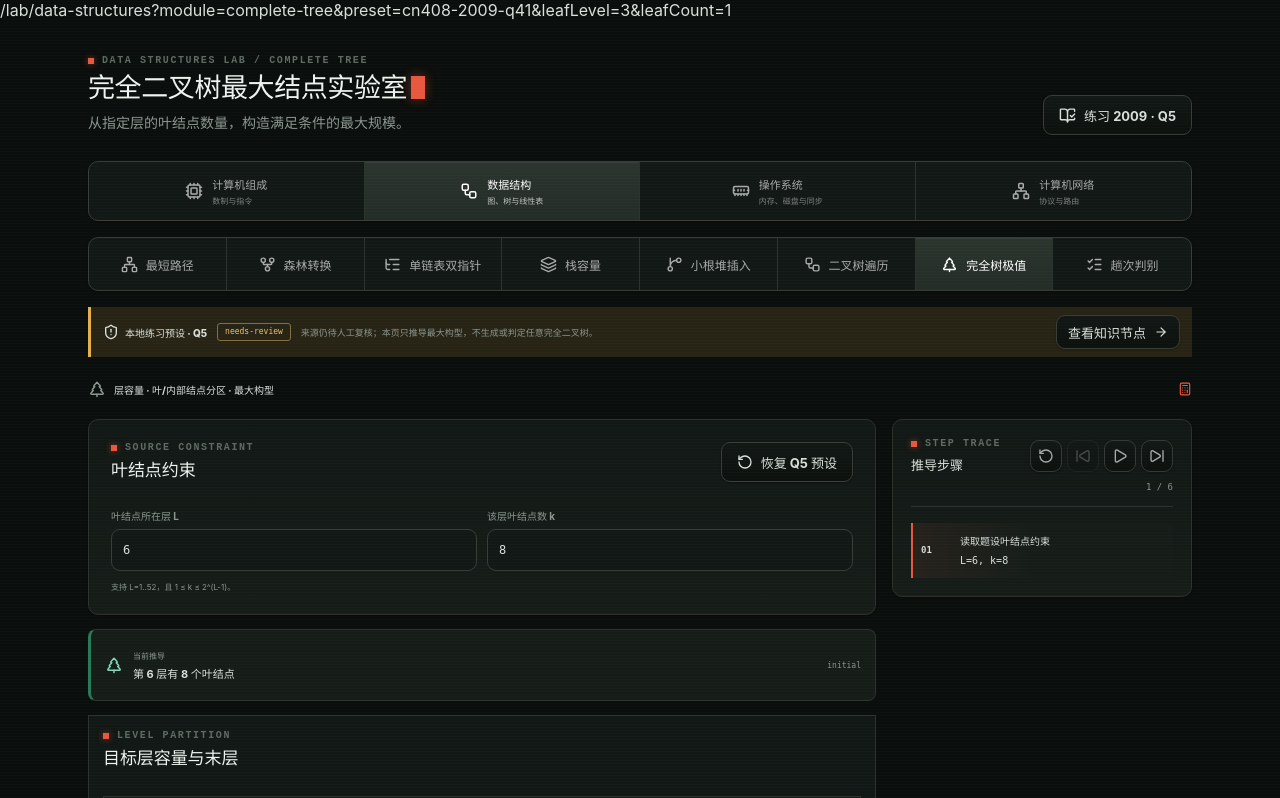
Test: CompleteBinaryTreeLabPage › lets the explicit complete-tree module ignore a conflicting foreign preset
Check: the number field labelled "叶结点所在层 L" holds "6", box [111, 530, 477, 572]
Check: the number field labelled "该层叶结点数 k" holds "8", box [487, 530, 853, 572]
Click the button named "下一步" at (1157, 456), box [1141, 440, 1173, 472]
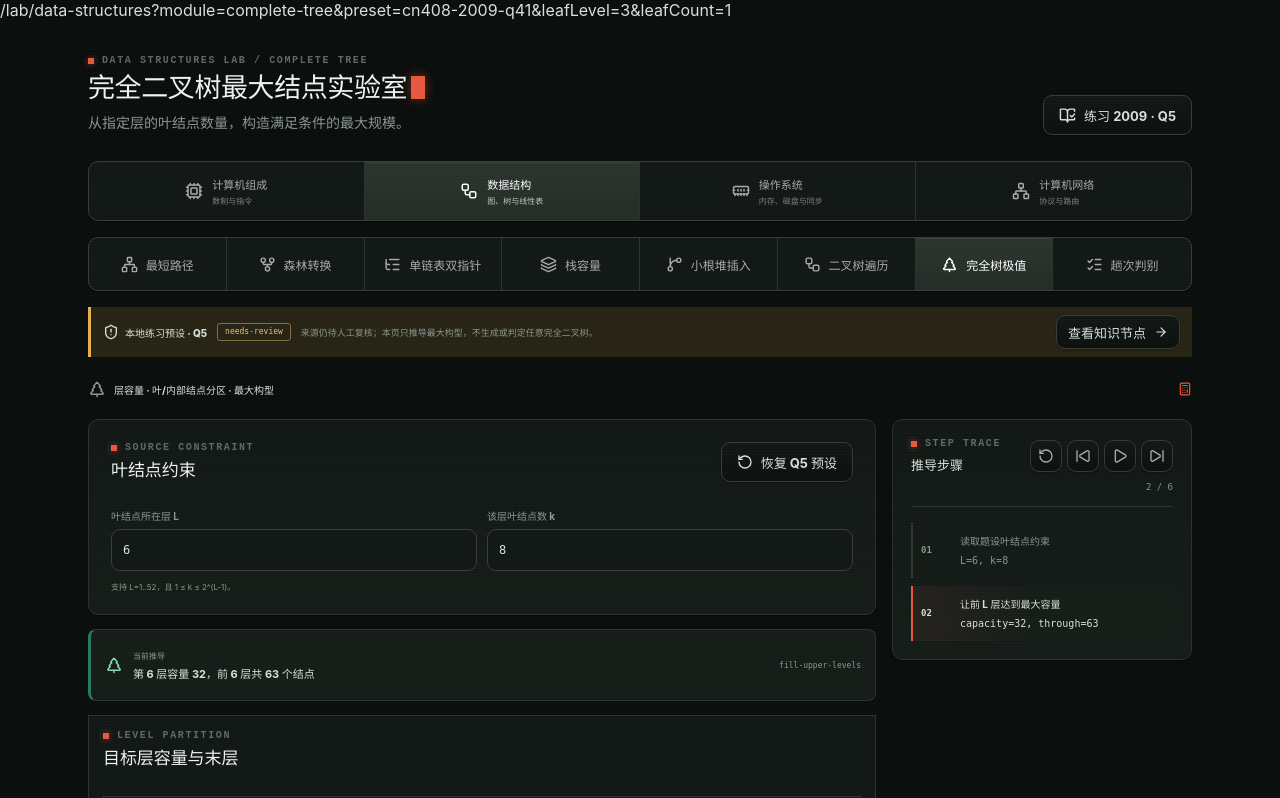
Click the button named "下一步" at (1157, 456), box [1141, 440, 1173, 472]
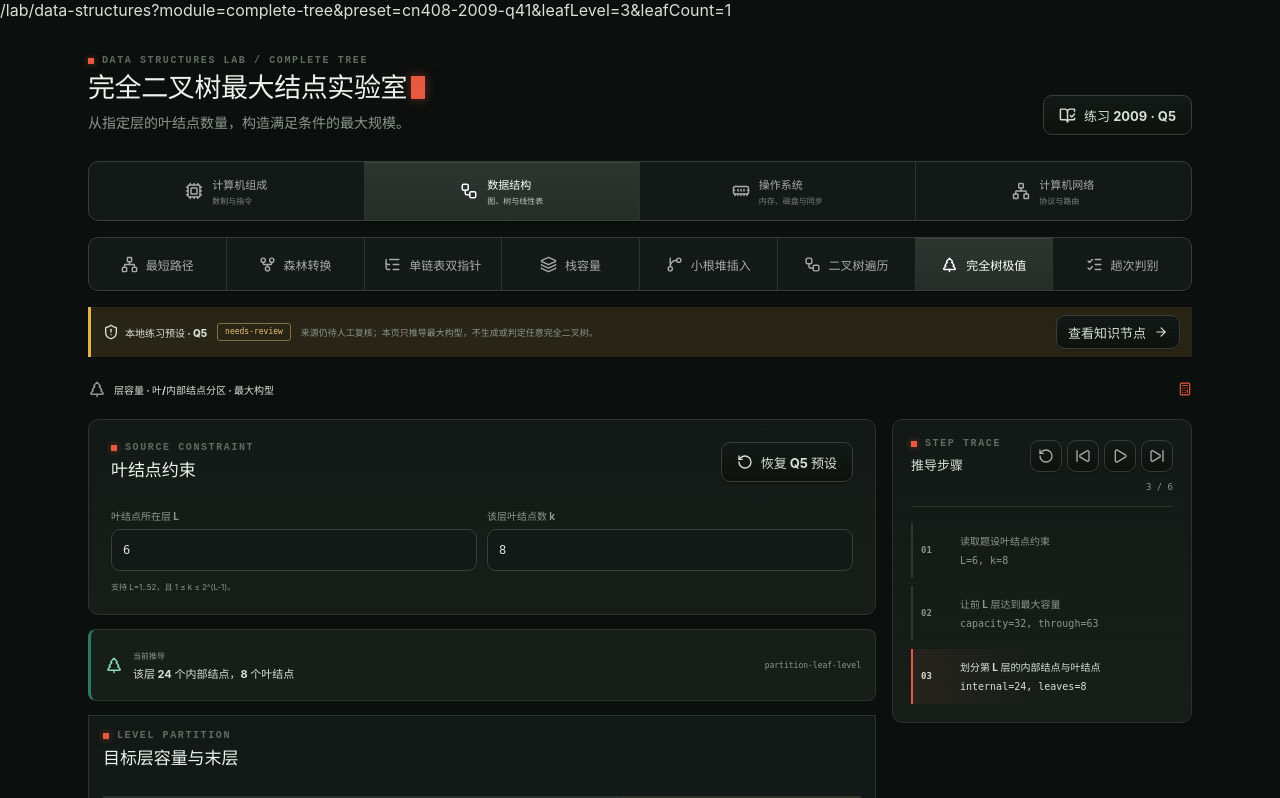
Click the button named "下一步" at (1157, 456), box [1141, 440, 1173, 472]
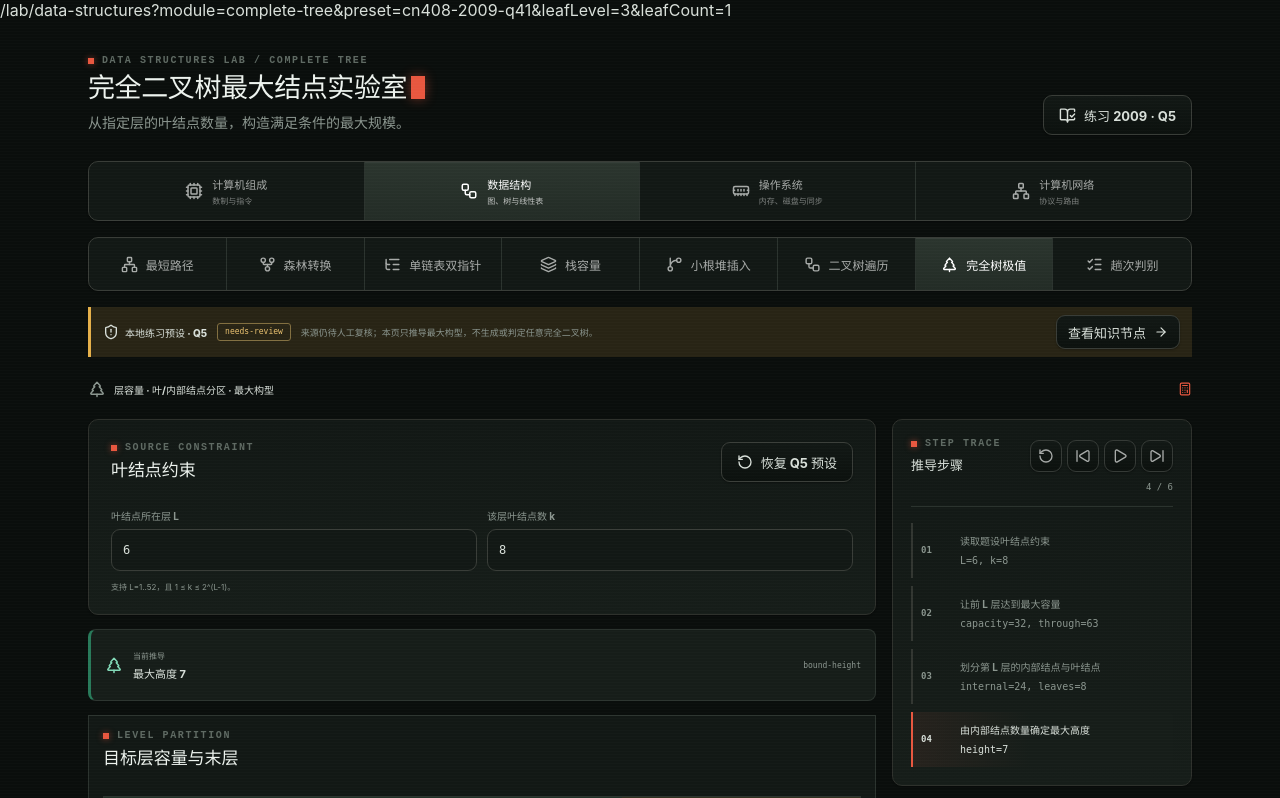
Click the button named "下一步" at (1157, 456), box [1141, 440, 1173, 472]
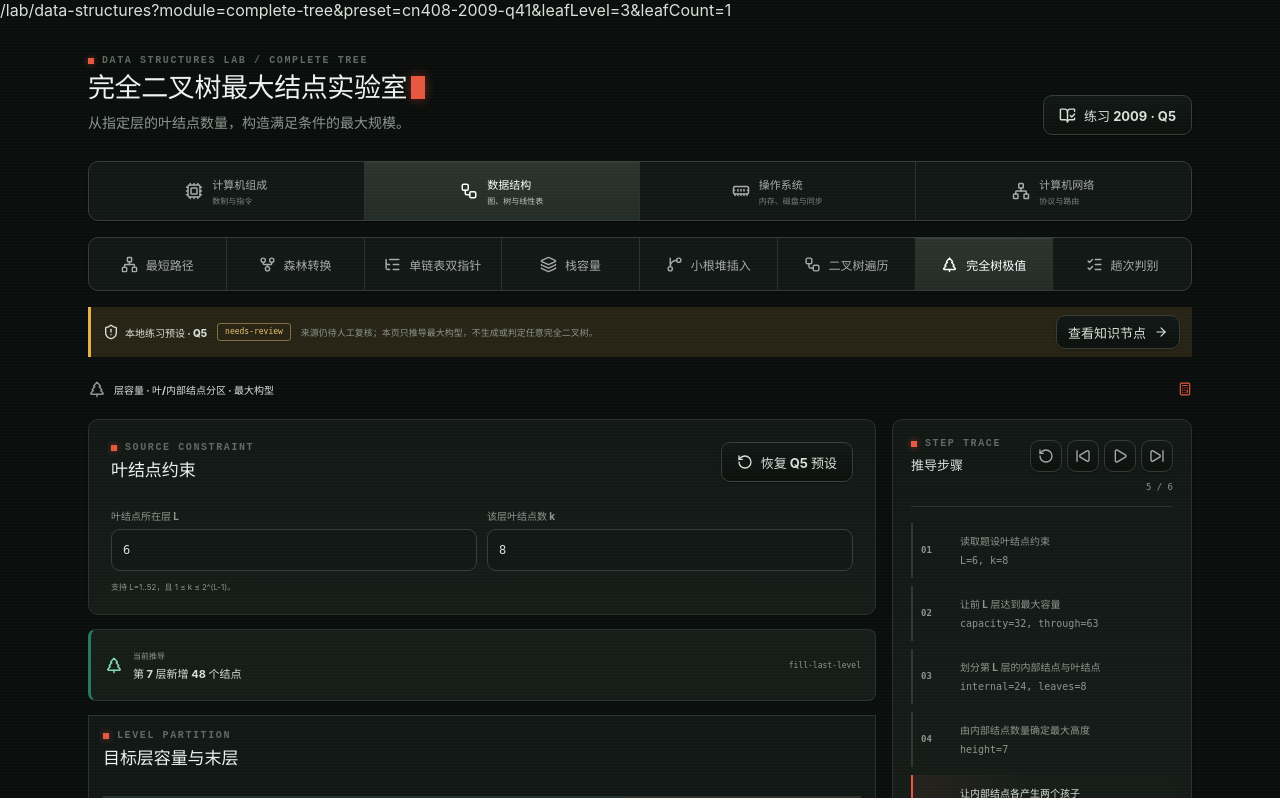
Click the button named "下一步" at (1157, 456), box [1141, 440, 1173, 472]
(page scrolled)
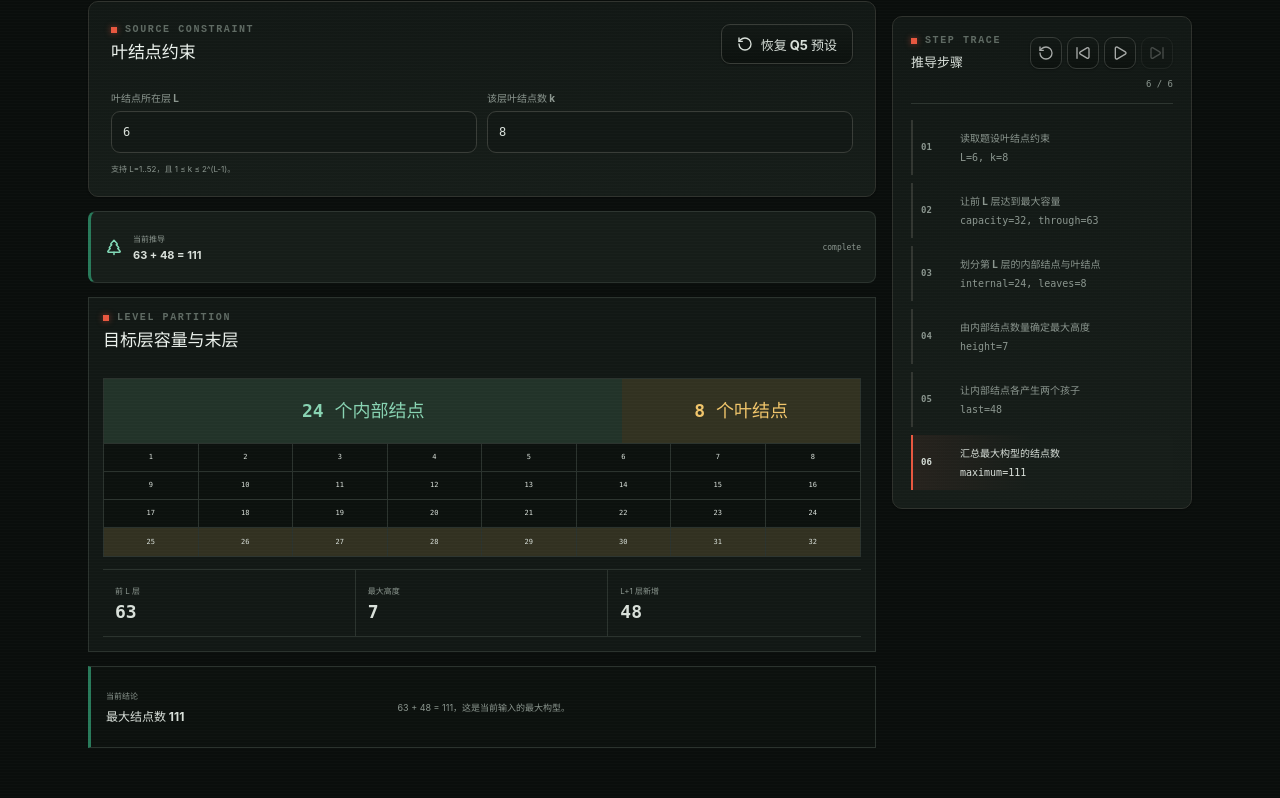
Check: the element named "当前最大结点结论" does not show "来源选项 C", box [88, 666, 876, 748]
Check: the element named "当前最大结点结论" shows "最大结点数 111", box [106, 710, 184, 724]
